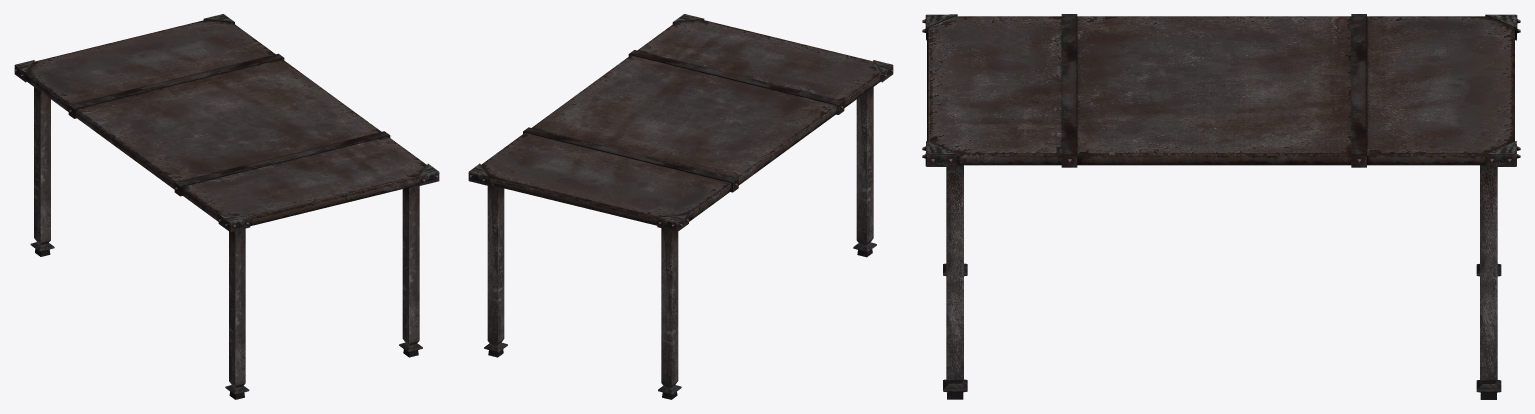
The model's file is table_metal.dae.
3 views of the same model, side by side, from view 1: azimuth 30°, elevation 25°; view 2: azimuth 150°, elevation 25°; view 3: azimuth 270°, elevation 25° (orthographic). The views are drawn at different scales.
Visible parts, largest first — view 1: polySurface35; view 2: polySurface35; view 3: polySurface35.
Part boxes in pixels (x1=…): polySurface35: x1=14, y1=14, x2=439, y2=399; polySurface35: x1=468, y1=14, x2=893, y2=399; polySurface35: x1=922, y1=14, x2=1520, y2=399.
Size of the model in its own units: 1.29 by 1.07 by 2.28.
